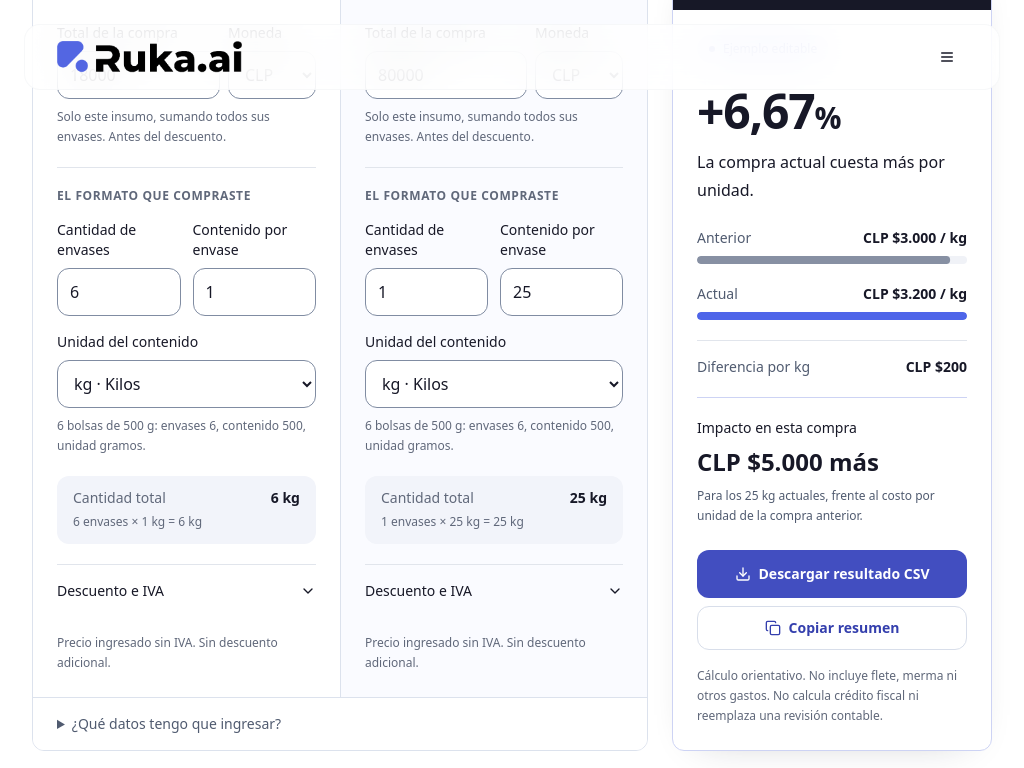
Test: tool experience upgrade › does not compare kilograms with litres or offer an invalid download
(page scrolled)
Select "l · Litros" in the 2nd dropdown labelled "Unidad del contenido" at (494, 384), box [365, 360, 623, 408]
(page scrolled)
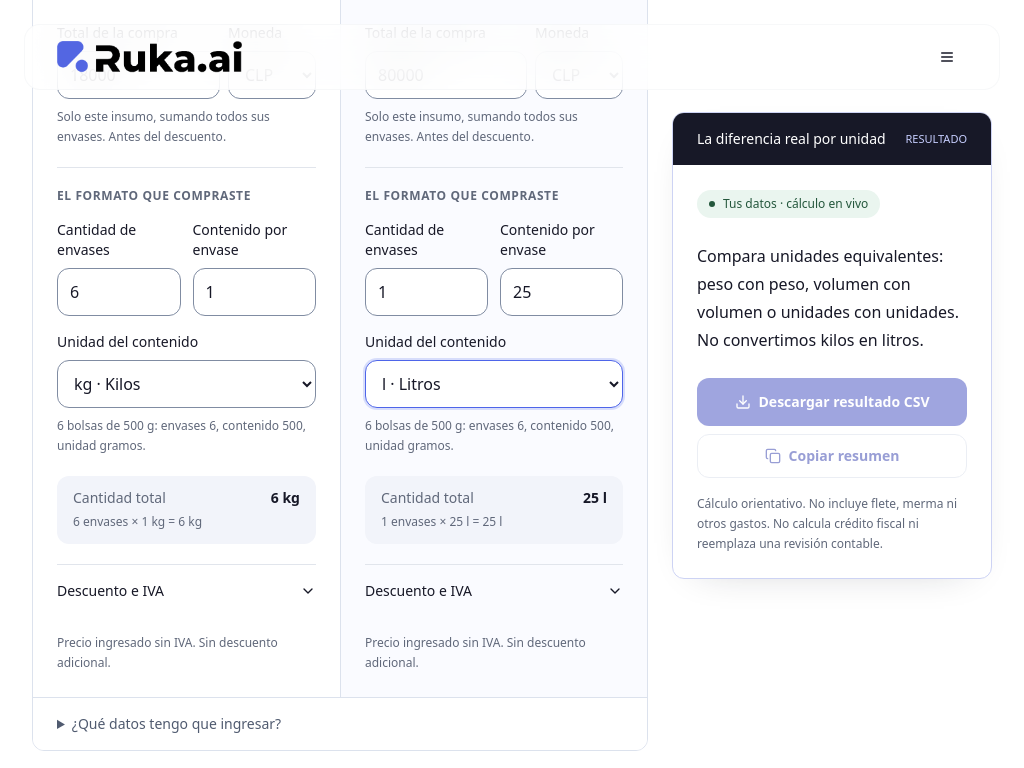
Now the element named "Resultado del cálculo" shows "No convertimos kilos en litros", box [697, 245, 959, 351]
Now the text "Impacto en esta compra" is gone
Now the button "Descargar resultado CSV" is disabled, box [697, 378, 967, 426]
